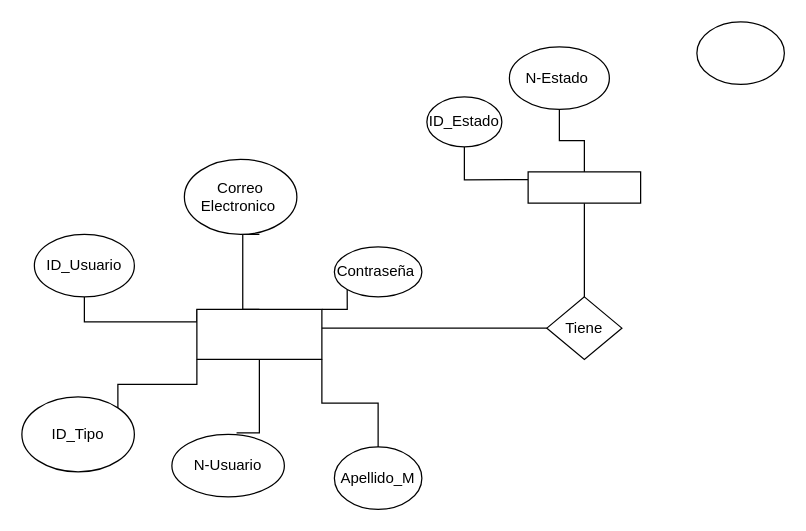
The diagram is 806 pixels wide and 531 high, and some of its shapes have lost their labels. The box of each missing label's shape, as (x1, y1, x2, y2) in pixels:
Estado: (527, 171, 641, 203)
Usuario: (196, 308, 322, 359)
